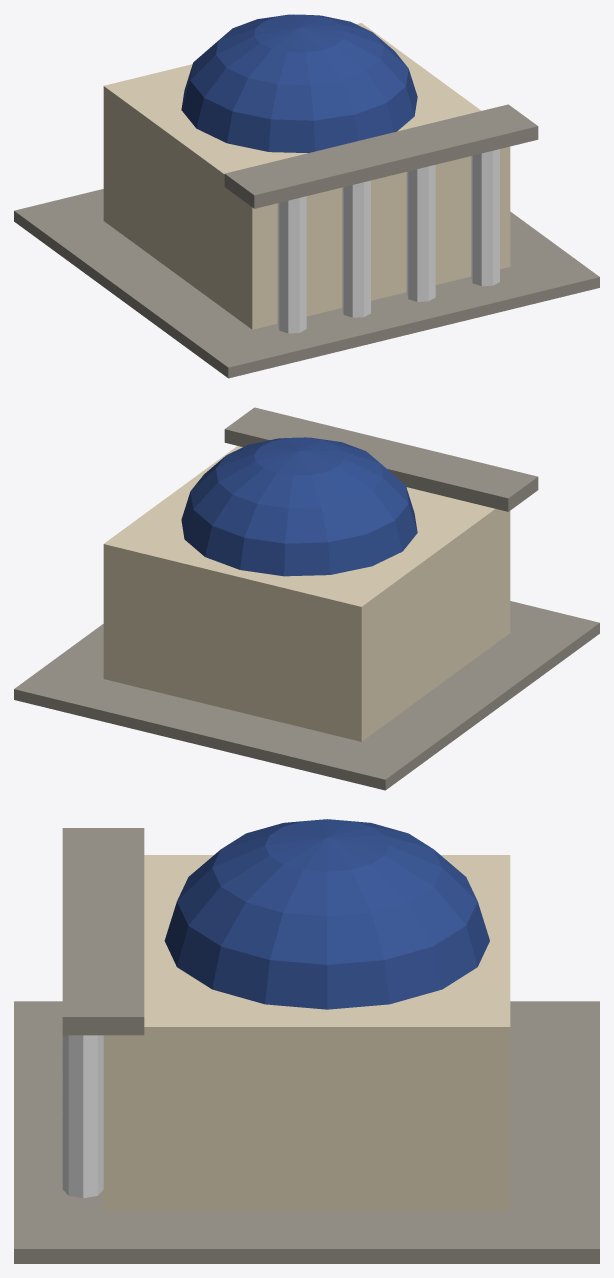
The model's file is academy.glb.
The picture shows the model from 3 angles, top to bottom: view 1: azimuth 30°, elevation 25°; view 2: azimuth 150°, elevation 25°; view 3: azimuth 270°, elevation 25°; orthographic projection. The views are drawn at different scales.
Visible parts, largest first — view 1: academy; view 2: academy; view 3: academy.
Part boxes in pixels (x1=…): academy: x1=14, y1=14, x2=599, y2=378; academy: x1=14, y1=407, x2=599, y2=790; academy: x1=14, y1=819, x2=599, y2=1263.
Bounding box in the file's own units: 2.88 × 1.64 × 2.88.
